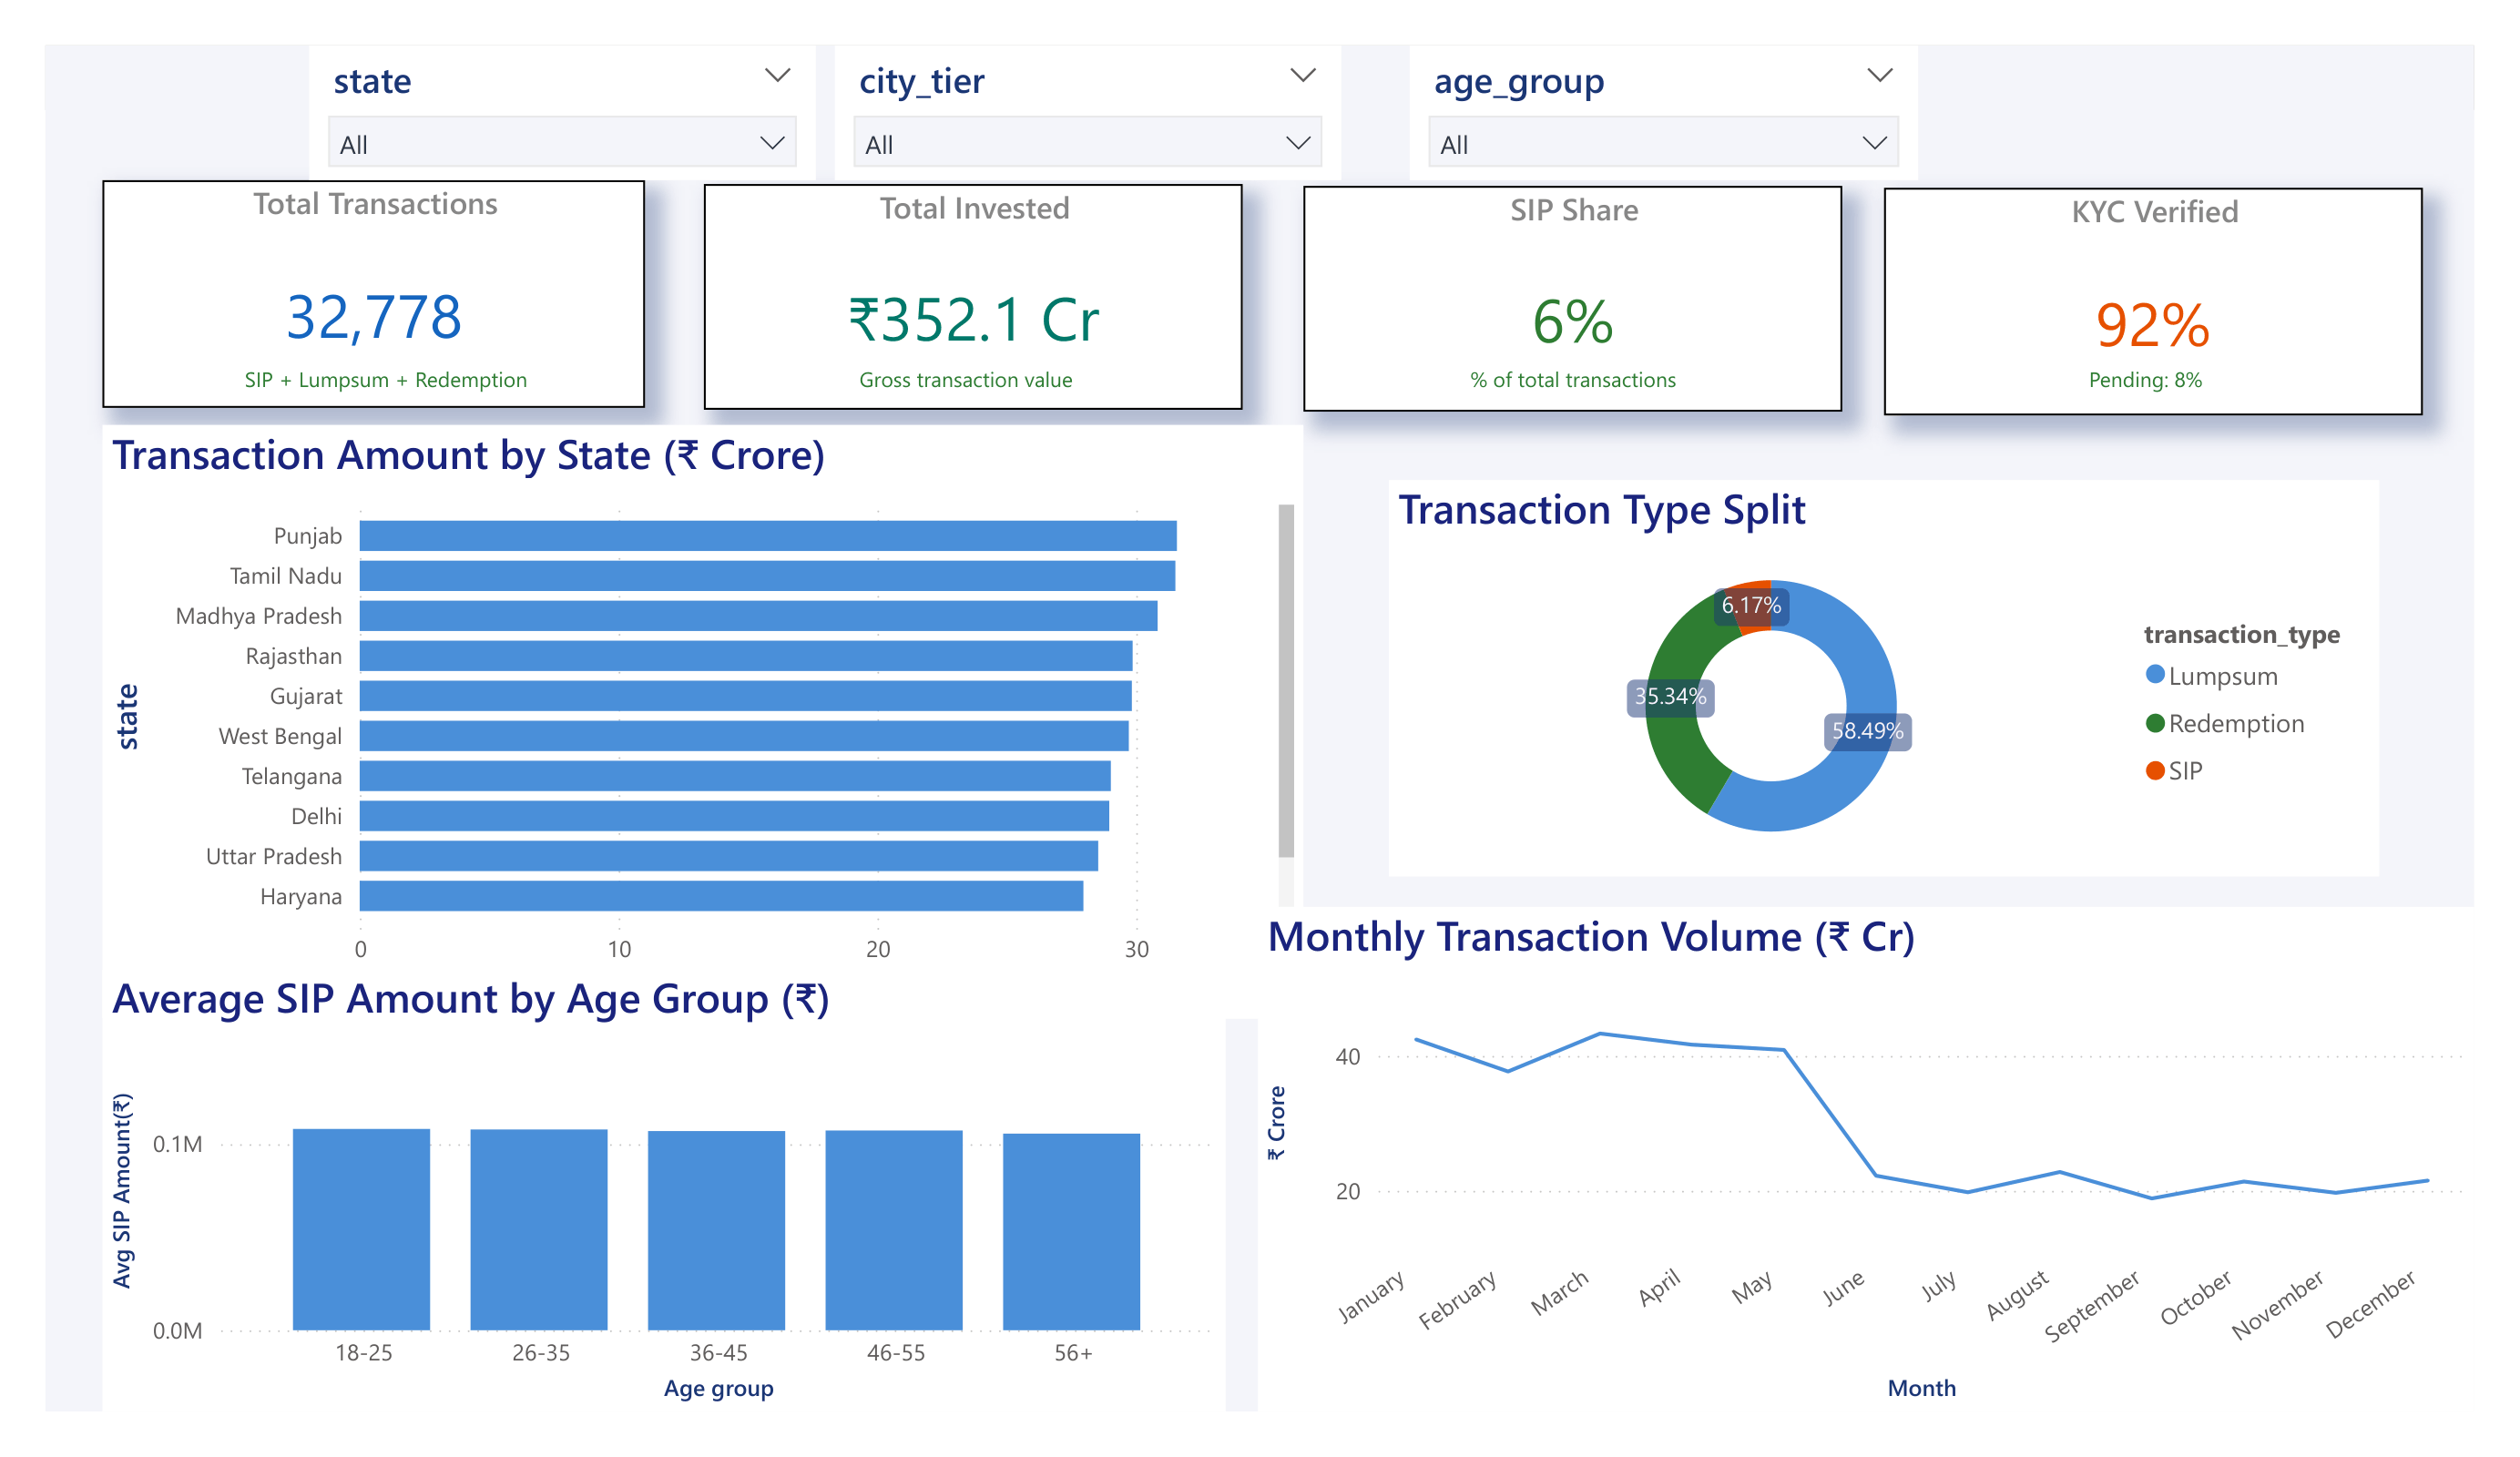

The dashboard page shown, as its layout file describes it:
{"tool":"powerbi","page":{"name":"Investor Analytics","canvas":[1280,720],"ordinal":2},"visuals":[{"type":"card","title":"Total Transactions","fields":{"Values":["08_investor_transactions_clean.Investor Total Transactions"]},"box":[30.2,71.4,285.4,119.4],"z":0},{"type":"card","title":"Total Invested","fields":{"Values":["08_investor_transactions_clean.Total Invested"]},"box":[347.2,72.7,284,119.4],"z":1000},{"type":"textbox","box":[424,160.5,131.7,27.4],"z":2000},{"type":"card","title":"SIP Share","fields":{"Values":["08_investor_transactions_clean.SIP Share"]},"box":[662.8,74.1,284,119.4],"z":3000},{"type":"textbox","box":[746.5,160.5,146.8,27.4],"z":4000},{"type":"card","title":"KYC Verified","fields":{"Values":["08_investor_transactions_clean.KYC Verified"]},"box":[968.8,75.5,284,119.4],"z":5000},{"type":"textbox","box":[70,259,191,150],"z":6000},{"type":"textbox","box":[1071.7,160.5,157.8,27.4],"z":7000},{"type":"clusteredBarChart","title":"Transaction Amount by State (₹ Crore)","fields":{"Category":["08_investor_transactions_clean.state"],"Y":["08_investor_transactions_clean.Transaction Amount Crore"]},"box":[30.2,200.3,632.6,312.9],"z":8000},{"type":"donutChart","title":"Transaction Type Split","fields":{"Category":["08_investor_transactions_clean.transaction_type"],"Y":["08_investor_transactions_clean.Transaction Amount Crore"]},"box":[708.1,229.2,521.4,208.6],"z":9000},{"type":"clusteredColumnChart","title":"Average SIP Amount by Age Group (₹)","fields":{"Y":["Avg(08_investor_transactions_clean.amount_inr)"],"Category":["08_investor_transactions_clean.age_group"]},"box":[30.2,487.1,591.4,233.3],"z":10000},{"type":"lineChart","title":"Monthly Transaction Volume (₹ Cr)","fields":{"Category":["08_investor_transactions_clean.transaction_date.Variation.Date Hierarchy.Month"],"Y":["08_investor_transactions_clean.Transaction Amount Crore"]},"box":[639.5,454.2,640.8,266.2],"z":11000},{"type":"slicer","fields":{"Values":["08_investor_transactions_clean.state"]},"box":[138.6,0,267,71.4],"z":12000},{"type":"slicer","fields":{"Values":["08_investor_transactions_clean.city_tier"]},"box":[415.8,0,267.6,71.4],"z":13000},{"type":"slicer","fields":{"Values":["08_investor_transactions_clean.age_group"]},"box":[719,0,267.6,71.4],"z":14000},{"type":"textbox","box":[100.2,160.5,189.4,27.4],"z":15000}]}

Visuals, with their boxes on the page's 1280x720 design canvas (x1, y1, x2, y2). These are canvas units, not pixel positions in the 2520x1457 screenshot, which may show the page scaled, cropped or inside an application window:
"Total Transactions" card: detection(30, 71, 316, 191)
"Total Invested" card: detection(347, 73, 631, 192)
textbox: detection(424, 160, 556, 188)
"SIP Share" card: detection(663, 74, 947, 194)
textbox: detection(746, 160, 893, 188)
"KYC Verified" card: detection(969, 76, 1253, 195)
textbox: detection(70, 259, 261, 409)
textbox: detection(1072, 160, 1230, 188)
"Transaction Amount by State (₹ Crore)" clusteredBarChart: detection(30, 200, 663, 513)
"Transaction Type Split" donutChart: detection(708, 229, 1230, 438)
"Average SIP Amount by Age Group (₹)" clusteredColumnChart: detection(30, 487, 622, 720)
"Monthly Transaction Volume (₹ Cr)" lineChart: detection(640, 454, 1280, 720)
slicer - 08_investor_transactions_clean.state: detection(139, 0, 406, 71)
slicer - 08_investor_transactions_clean.city_tier: detection(416, 0, 683, 71)
slicer - 08_investor_transactions_clean.age_group: detection(719, 0, 987, 71)
textbox: detection(100, 160, 290, 188)
